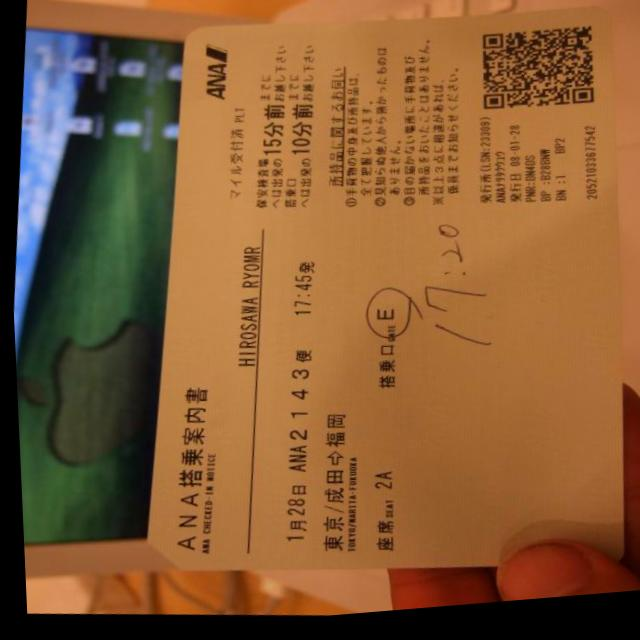qrcode: (476, 26, 599, 126)
